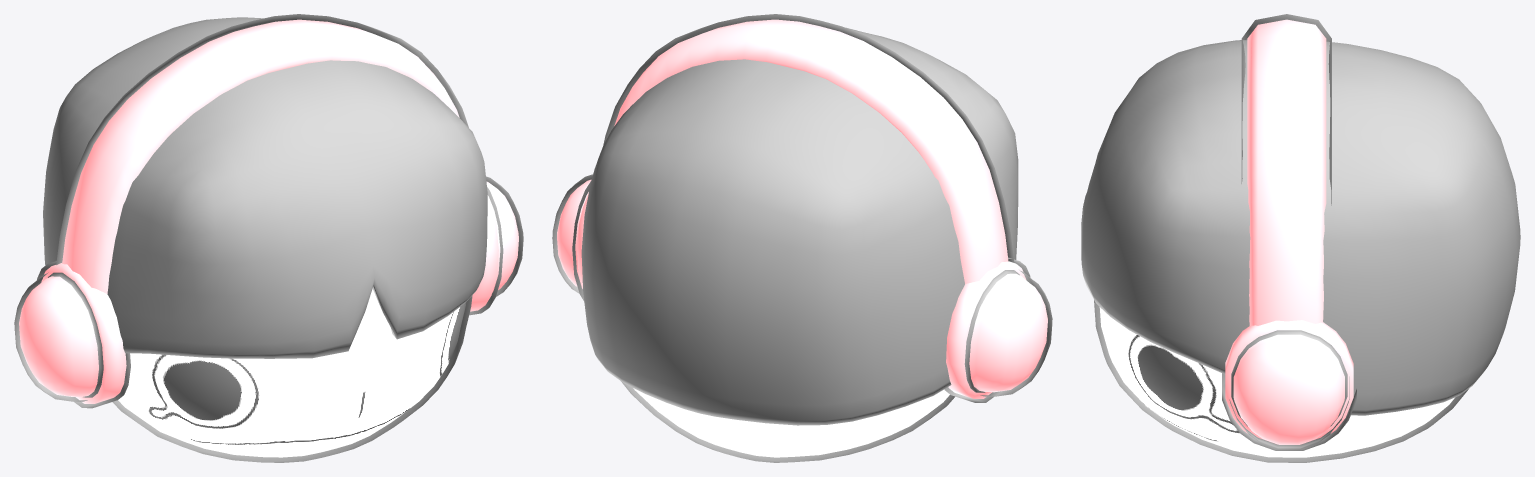
Rendered from head.glb.
3 renders of one model, left to right at view 1: azimuth 30°, elevation 25°; view 2: azimuth 150°, elevation 25°; view 3: azimuth 270°, elevation 25°, orthographic. The views are drawn at different scales.
Visible parts, largest first — view 1: Head; view 2: Head; view 3: Head.
Boxes of the visible parts, x1=… form: Head: x1=14, y1=14, x2=523, y2=462; Head: x1=552, y1=14, x2=1052, y2=462; Head: x1=1081, y1=14, x2=1520, y2=462.
Bounding box in the file's own units: 6.54 × 5.31 × 5.26.
